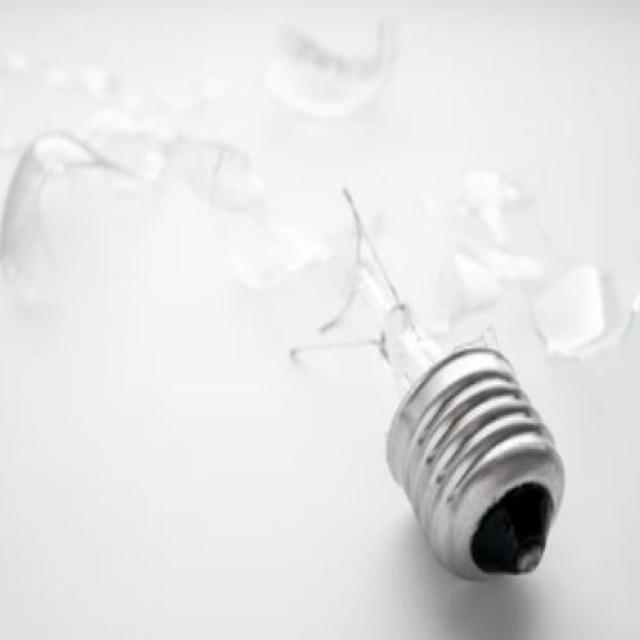electronic: (289, 184, 567, 582), (383, 334, 565, 582)
